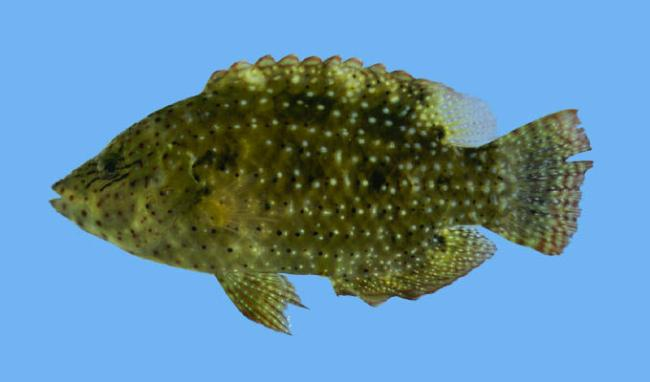fish: (49, 53, 594, 335)
